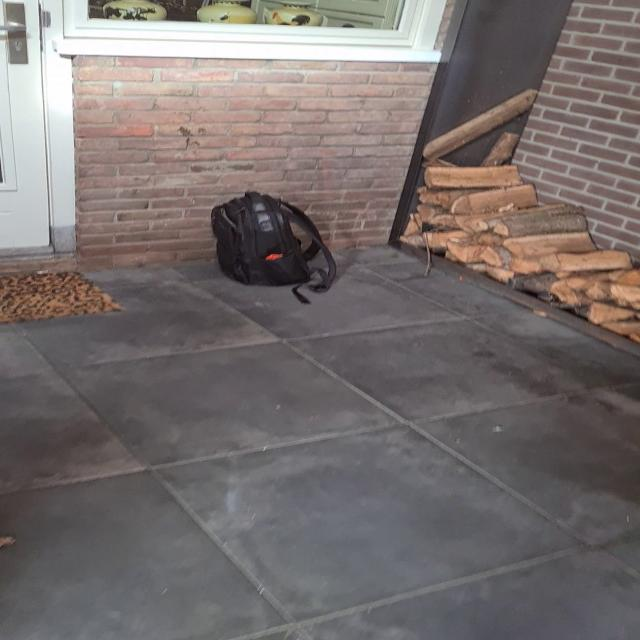backpack: (206, 189, 336, 291)
